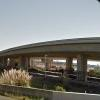Bridge: (5, 25, 95, 73)
